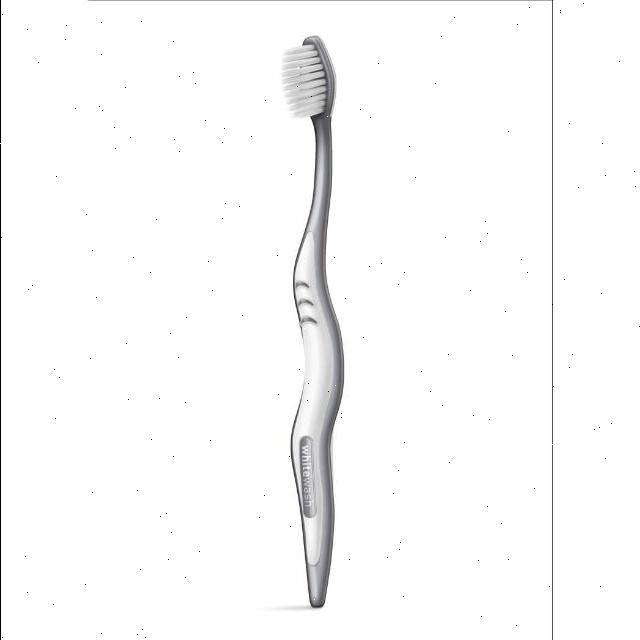toothbrush: (253, 4, 363, 628)
